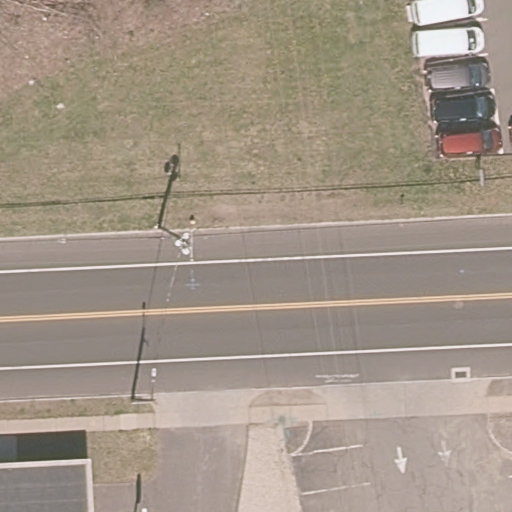DT: (173, 227, 198, 265)
